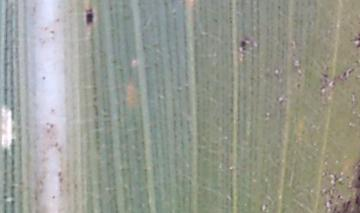tarspot: (83, 6, 95, 26), (351, 31, 360, 50), (342, 198, 351, 213), (239, 38, 247, 53), (319, 70, 329, 80), (170, 9, 179, 19), (353, 194, 360, 206), (57, 176, 65, 185), (348, 66, 355, 76), (40, 74, 48, 82), (49, 122, 56, 131), (276, 3, 282, 13), (52, 140, 59, 148), (341, 70, 347, 79), (49, 106, 56, 113), (44, 121, 51, 128), (295, 82, 301, 90), (48, 29, 56, 35), (50, 193, 56, 201), (56, 169, 62, 176), (336, 193, 341, 200), (356, 174, 360, 182)
